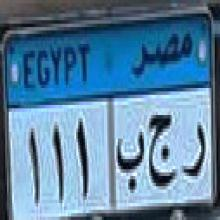1: (49, 124, 70, 207), (73, 118, 93, 204), (26, 123, 44, 215)
baa: (115, 127, 145, 197)
jeem: (146, 108, 176, 194)
raa: (181, 108, 212, 189)
